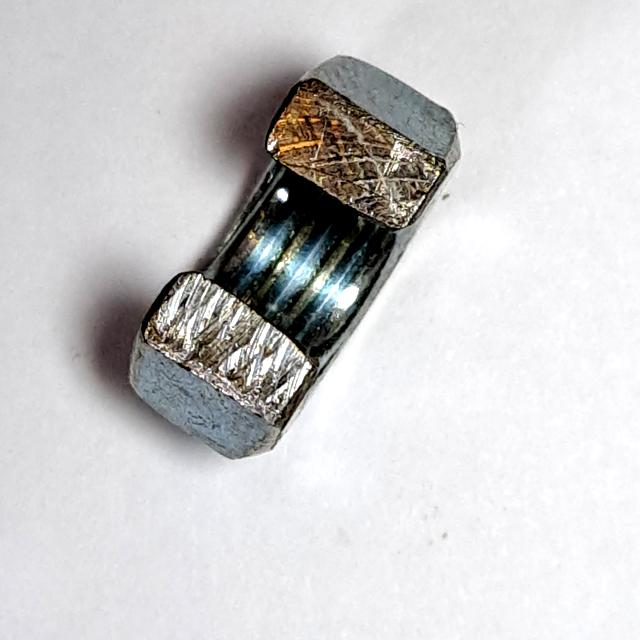Side-Fracture: (119, 45, 474, 471)
